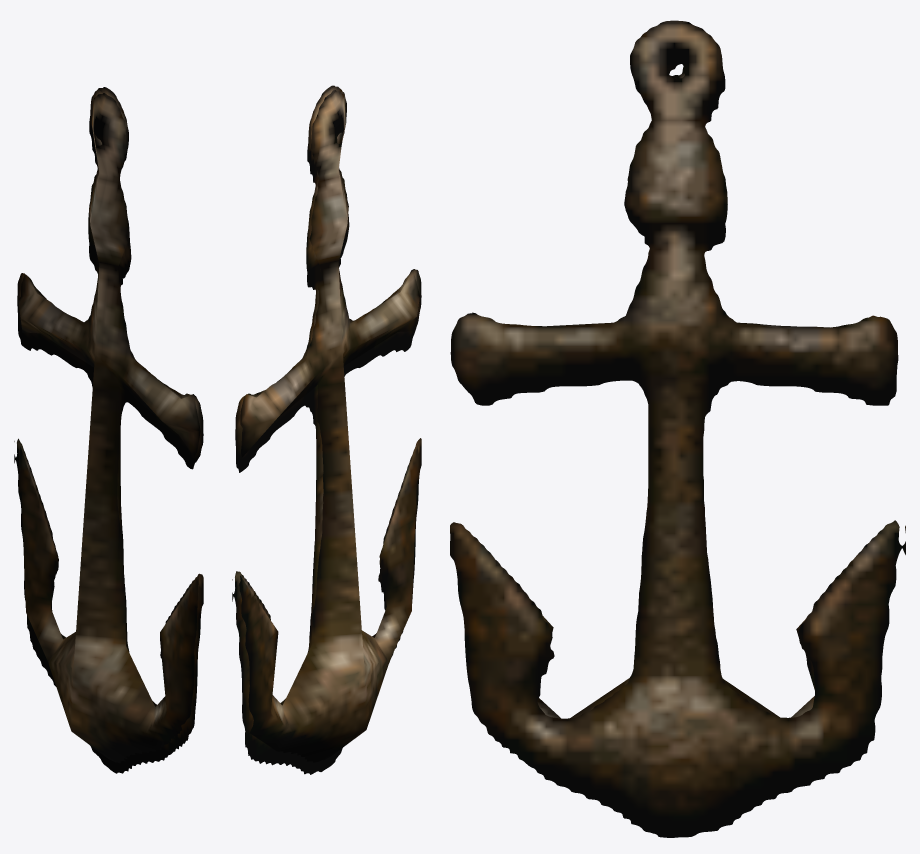
File: INST_LT_ANCHOR.fbx
3 views of the same model, side by side, from view 1: azimuth 30°, elevation 25°; view 2: azimuth 150°, elevation 25°; view 3: azimuth 270°, elevation 25° (orthographic). The views are drawn at different scales.
Visible parts, largest first — view 1: INST_LT_ANCHOR; view 2: INST_LT_ANCHOR; view 3: INST_LT_ANCHOR.
Part boxes in pixels (<box>): INST_LT_ANCHOR: <box>14,87,203,773</box>; INST_LT_ANCHOR: <box>232,85,421,774</box>; INST_LT_ANCHOR: <box>450,20,905,837</box>.
Bounding box in the file's own units: 673 × 11463 × 5732.
Materials: 1 (1 with a texture image).
